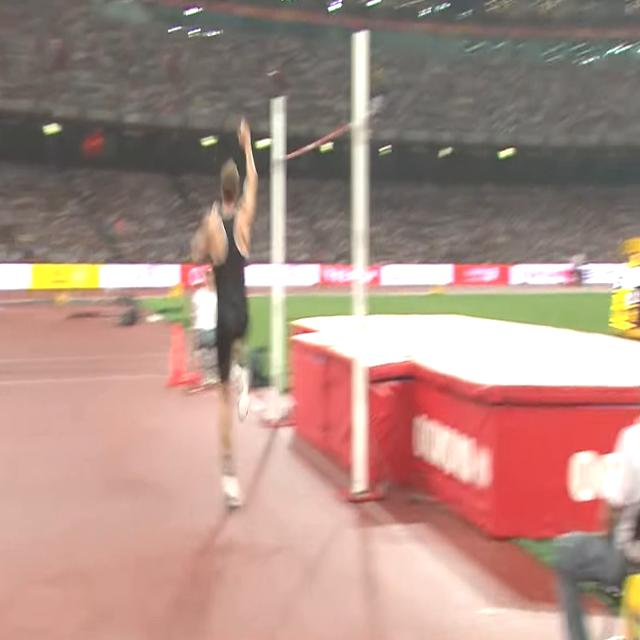jump: (191, 116, 256, 507)
